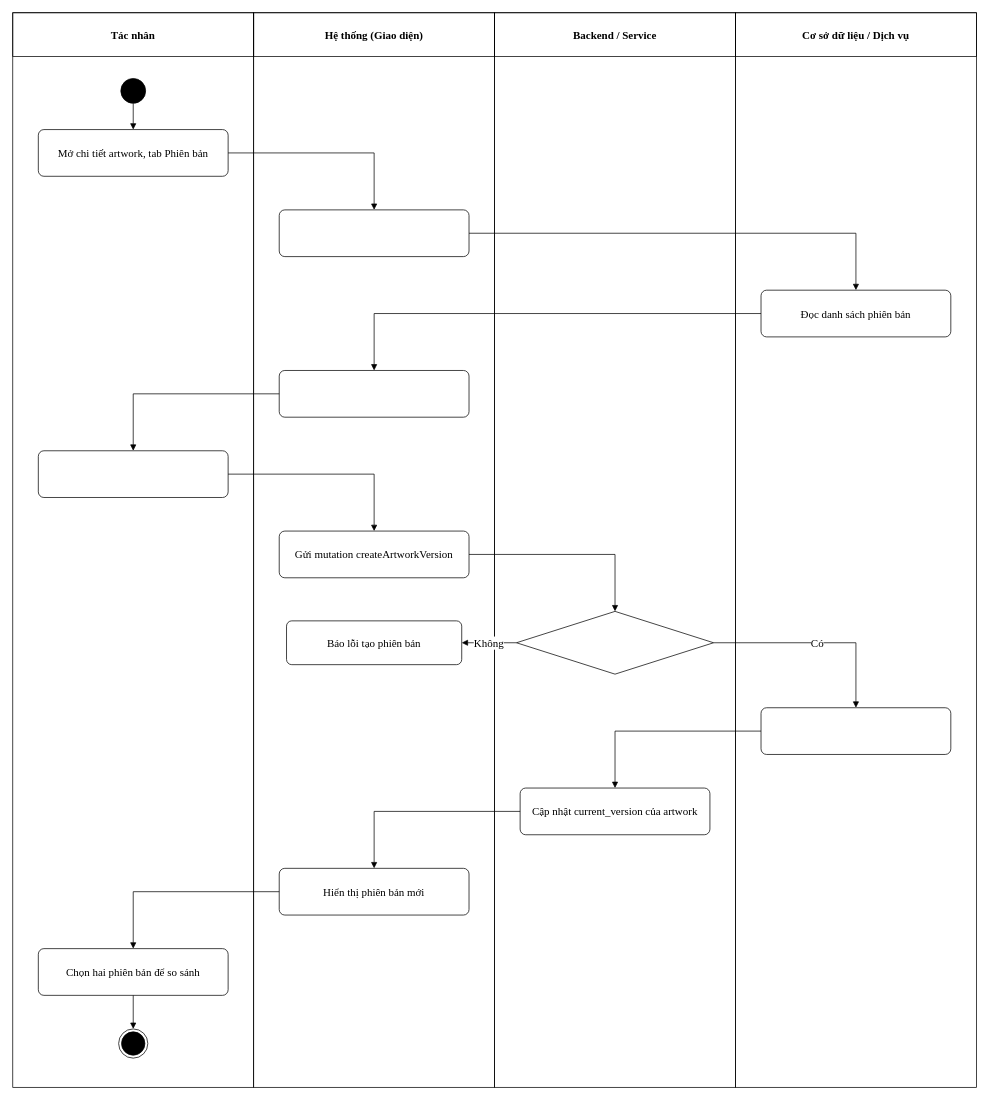
The diagram is 989 pixels wide and 1100 high, and some of its shapes have lost their labels. The box of each missing label's shape, as (x1, y1, x2, y2) in pixels:
Có quyền, dữ liệu hợp lệ?: (516, 611, 714, 674)
Gửi query artworkVersions: (278, 209, 469, 257)
Hiển thị lịch sử phiên bản: (278, 370, 469, 417)
Lưu ảnh S3, tạo bản ghi version_no + 1: (760, 707, 951, 754)
Tải ảnh mới, nhập ghi chú thay đổi: (38, 450, 228, 497)
